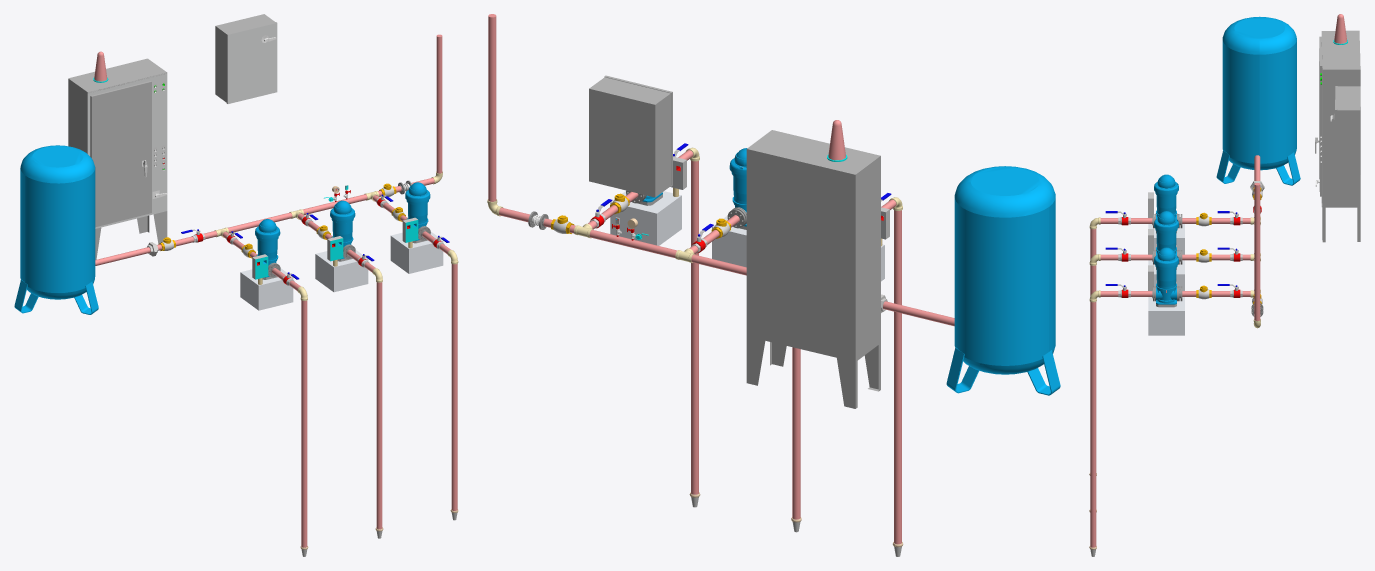
Rendered from epc_esquema.glb.
3 renders of one model, left to right at view 1: azimuth 30°, elevation 25°; view 2: azimuth 150°, elevation 25°; view 3: azimuth 270°, elevation 25°, orthographic. The views are drawn at different scales.
Visible parts, largest first — view 1: Geom3D (×10), Geom3D_Componente#619, Geom3D_Componente#620; view 2: Geom3D (×8), Geom3D_Componente#619, Geom3D_Componente#620; view 3: Geom3D (×7), Geom3D_Componente#619, Geom3D_Componente#620.
Part boxes in pixels (left/top/right/bottom): Geom3D (×10): left=68, top=14, right=457, bottom=547; Geom3D_Componente#619: left=20, top=145, right=95, bottom=299; Geom3D_Componente#620: left=14, top=279, right=98, bottom=314; Geom3D (×8): left=488, top=14, right=954, bottom=544; Geom3D_Componente#619: left=954, top=166, right=1055, bottom=374; Geom3D_Componente#620: left=946, top=347, right=1060, bottom=395; Geom3D (×7): left=1090, top=30, right=1360, bottom=547; Geom3D_Componente#619: left=1222, top=16, right=1296, bottom=170; Geom3D_Componente#620: left=1216, top=150, right=1300, bottom=185.
Bounding box in the file's own units: 3.7 × 3.62 × 2.06.
